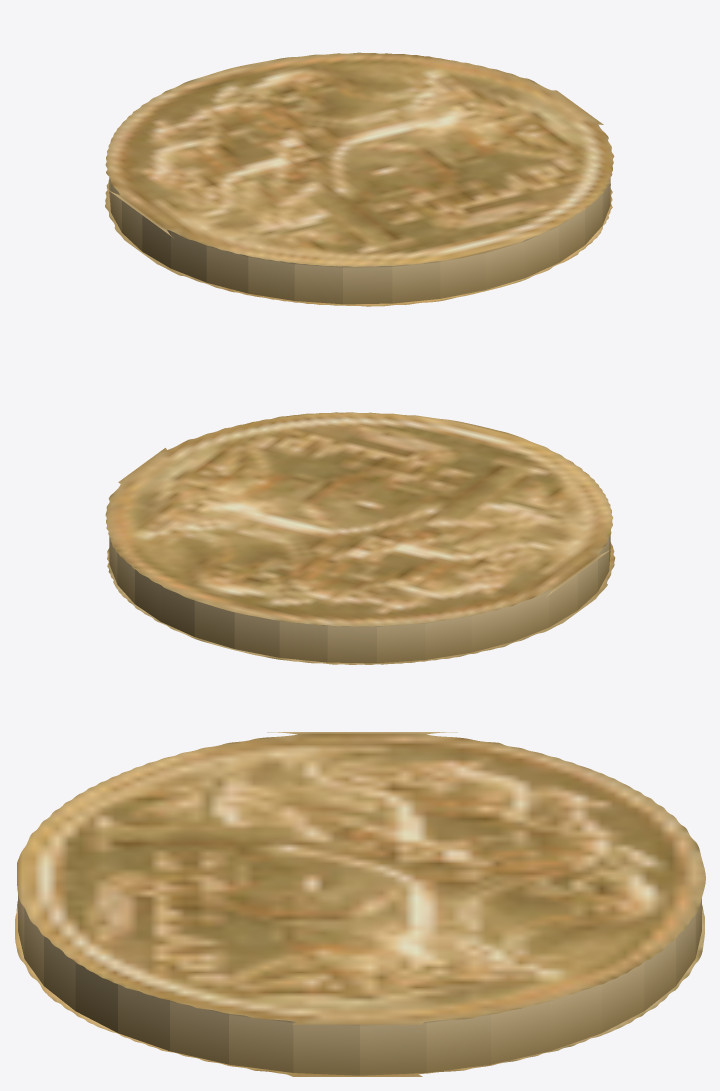
Rendered from coin1.obj.
3 renders of one model, top to bottom at view 1: azimuth 30°, elevation 25°; view 2: azimuth 150°, elevation 25°; view 3: azimuth 270°, elevation 25°, orthographic. The views are drawn at different scales.
Parts seen in each view (by area): view 1: Cylinder_Cylinder.002; view 2: Cylinder_Cylinder.002; view 3: Cylinder_Cylinder.002.
Part boxes in pixels (left/top/right/bottom): Cylinder_Cylinder.002: left=105, top=52, right=614, bottom=306; Cylinder_Cylinder.002: left=105, top=412, right=615, bottom=664; Cylinder_Cylinder.002: left=15, top=732, right=705, bottom=1076.
Size of the model in its own units: 3 by 0.25 by 3.
